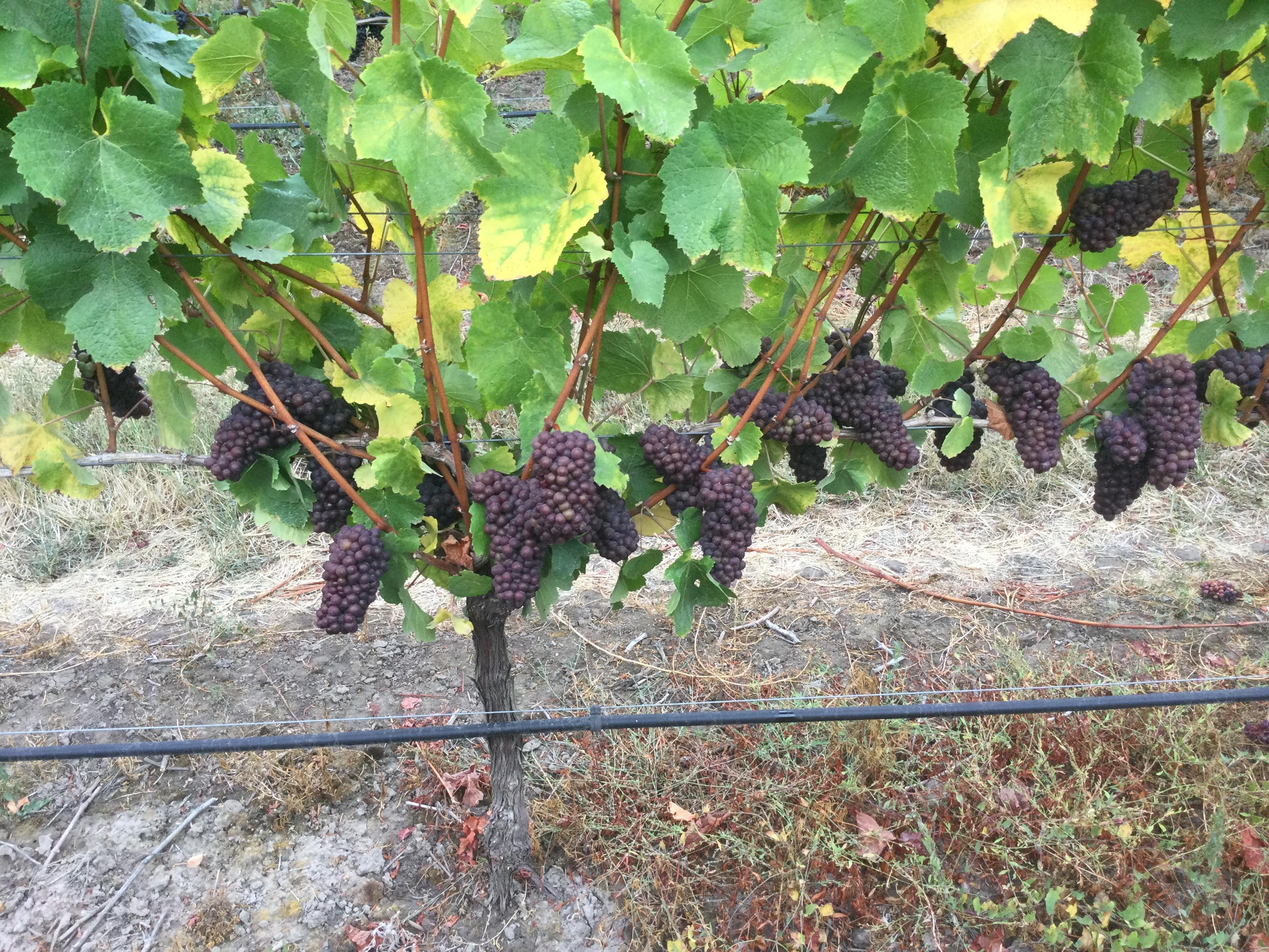leaf: (10, 82, 202, 252), (661, 102, 809, 273), (352, 49, 500, 218), (992, 12, 1141, 169), (476, 113, 607, 280), (24, 226, 180, 366), (841, 72, 967, 219), (578, 6, 698, 140), (255, 4, 352, 142), (925, 0, 1096, 72), (745, 0, 874, 92), (615, 254, 744, 342), (465, 301, 569, 407), (0, 0, 128, 86), (216, 443, 314, 542), (979, 146, 1072, 246), (933, 112, 1008, 228), (0, 412, 101, 498), (1119, 211, 1206, 303), (504, 0, 610, 66), (250, 175, 339, 250), (557, 400, 628, 494), (1127, 34, 1202, 122), (1165, 0, 1268, 59), (119, 4, 202, 77), (187, 149, 252, 240), (665, 553, 730, 635), (845, 0, 928, 60), (610, 221, 668, 306), (356, 430, 429, 495), (444, 0, 506, 74), (534, 539, 591, 618), (299, 134, 346, 229), (428, 274, 478, 362), (0, 301, 73, 360), (605, 434, 663, 505), (304, 0, 356, 79), (596, 327, 656, 393), (146, 371, 196, 449), (909, 248, 967, 314), (1210, 78, 1261, 152), (1201, 369, 1250, 446), (130, 53, 185, 120), (517, 371, 556, 464), (30, 448, 102, 498), (684, 0, 754, 49), (41, 361, 97, 422), (0, 29, 54, 89), (610, 548, 664, 607), (710, 307, 762, 366), (230, 217, 295, 263), (753, 479, 816, 526), (382, 278, 420, 350), (360, 487, 425, 529), (823, 441, 872, 495), (393, 582, 435, 643), (643, 374, 698, 418), (241, 131, 287, 183), (1106, 283, 1149, 337), (910, 354, 964, 395), (991, 248, 1037, 296), (1019, 264, 1064, 311), (0, 130, 27, 205), (719, 419, 761, 465), (997, 326, 1053, 360), (469, 444, 518, 474), (939, 416, 974, 457), (937, 220, 970, 262), (1232, 309, 1268, 347), (673, 506, 701, 552), (447, 570, 492, 597), (470, 502, 489, 557), (1211, 213, 1235, 251), (1220, 253, 1241, 287), (0, 382, 11, 425), (872, 4, 893, 21), (948, 77, 961, 89), (532, 64, 549, 68), (57, 51, 61, 58), (385, 595, 389, 600), (1264, 89, 1268, 94), (557, 65, 563, 68), (952, 136, 954, 144), (948, 146, 949, 156), (503, 71, 506, 74), (334, 65, 337, 68), (362, 464, 365, 467), (370, 64, 372, 68), (961, 107, 963, 110), (76, 75, 77, 81), (578, 58, 579, 62), (958, 232, 961, 233), (0, 269, 2, 270), (332, 216, 334, 217), (411, 427, 412, 429), (191, 122, 192, 124), (376, 60, 378, 61), (922, 30, 923, 32), (354, 282, 355, 283), (314, 249, 320, 249), (601, 361, 601, 366), (905, 289, 905, 289)
